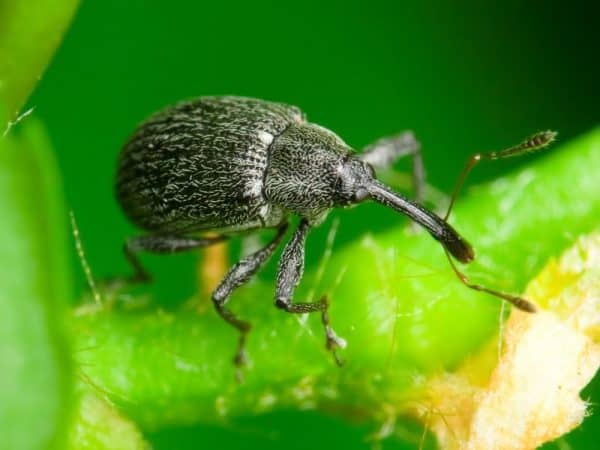dolgonosik: (114, 93, 561, 380)
